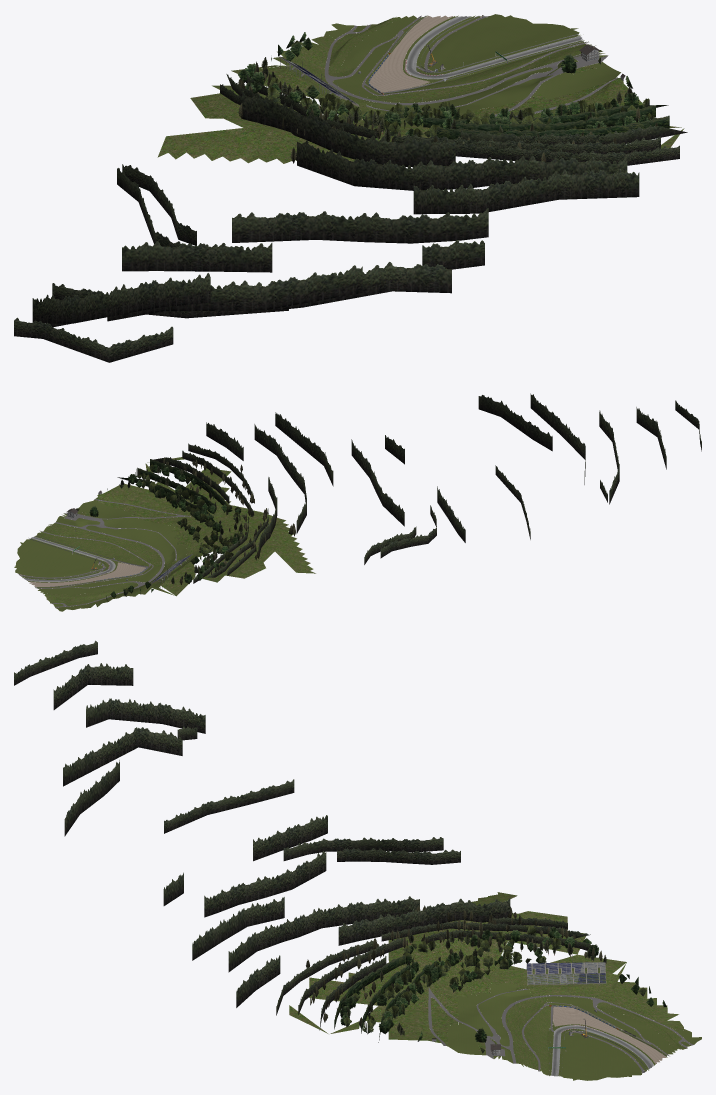
3 renders of one model, top to bottom at view 1: azimuth 30°, elevation 25°; view 2: azimuth 150°, elevation 25°; view 3: azimuth 270°, elevation 25°, orthographic. The views are drawn at different scales.
Parts seen in each view (by area): view 1: tile_t03; view 2: tile_t03; view 3: tile_t03.
Part boxes in pixels (x1=…): tile_t03: x1=14, y1=14, x2=687, y2=362; tile_t03: x1=14, y1=393, x2=701, y2=611; tile_t03: x1=14, y1=640, x2=701, y2=1080.
Bounding box in the file's own units: 1155 × 241 × 1044.
40 materials, 40 textured.
